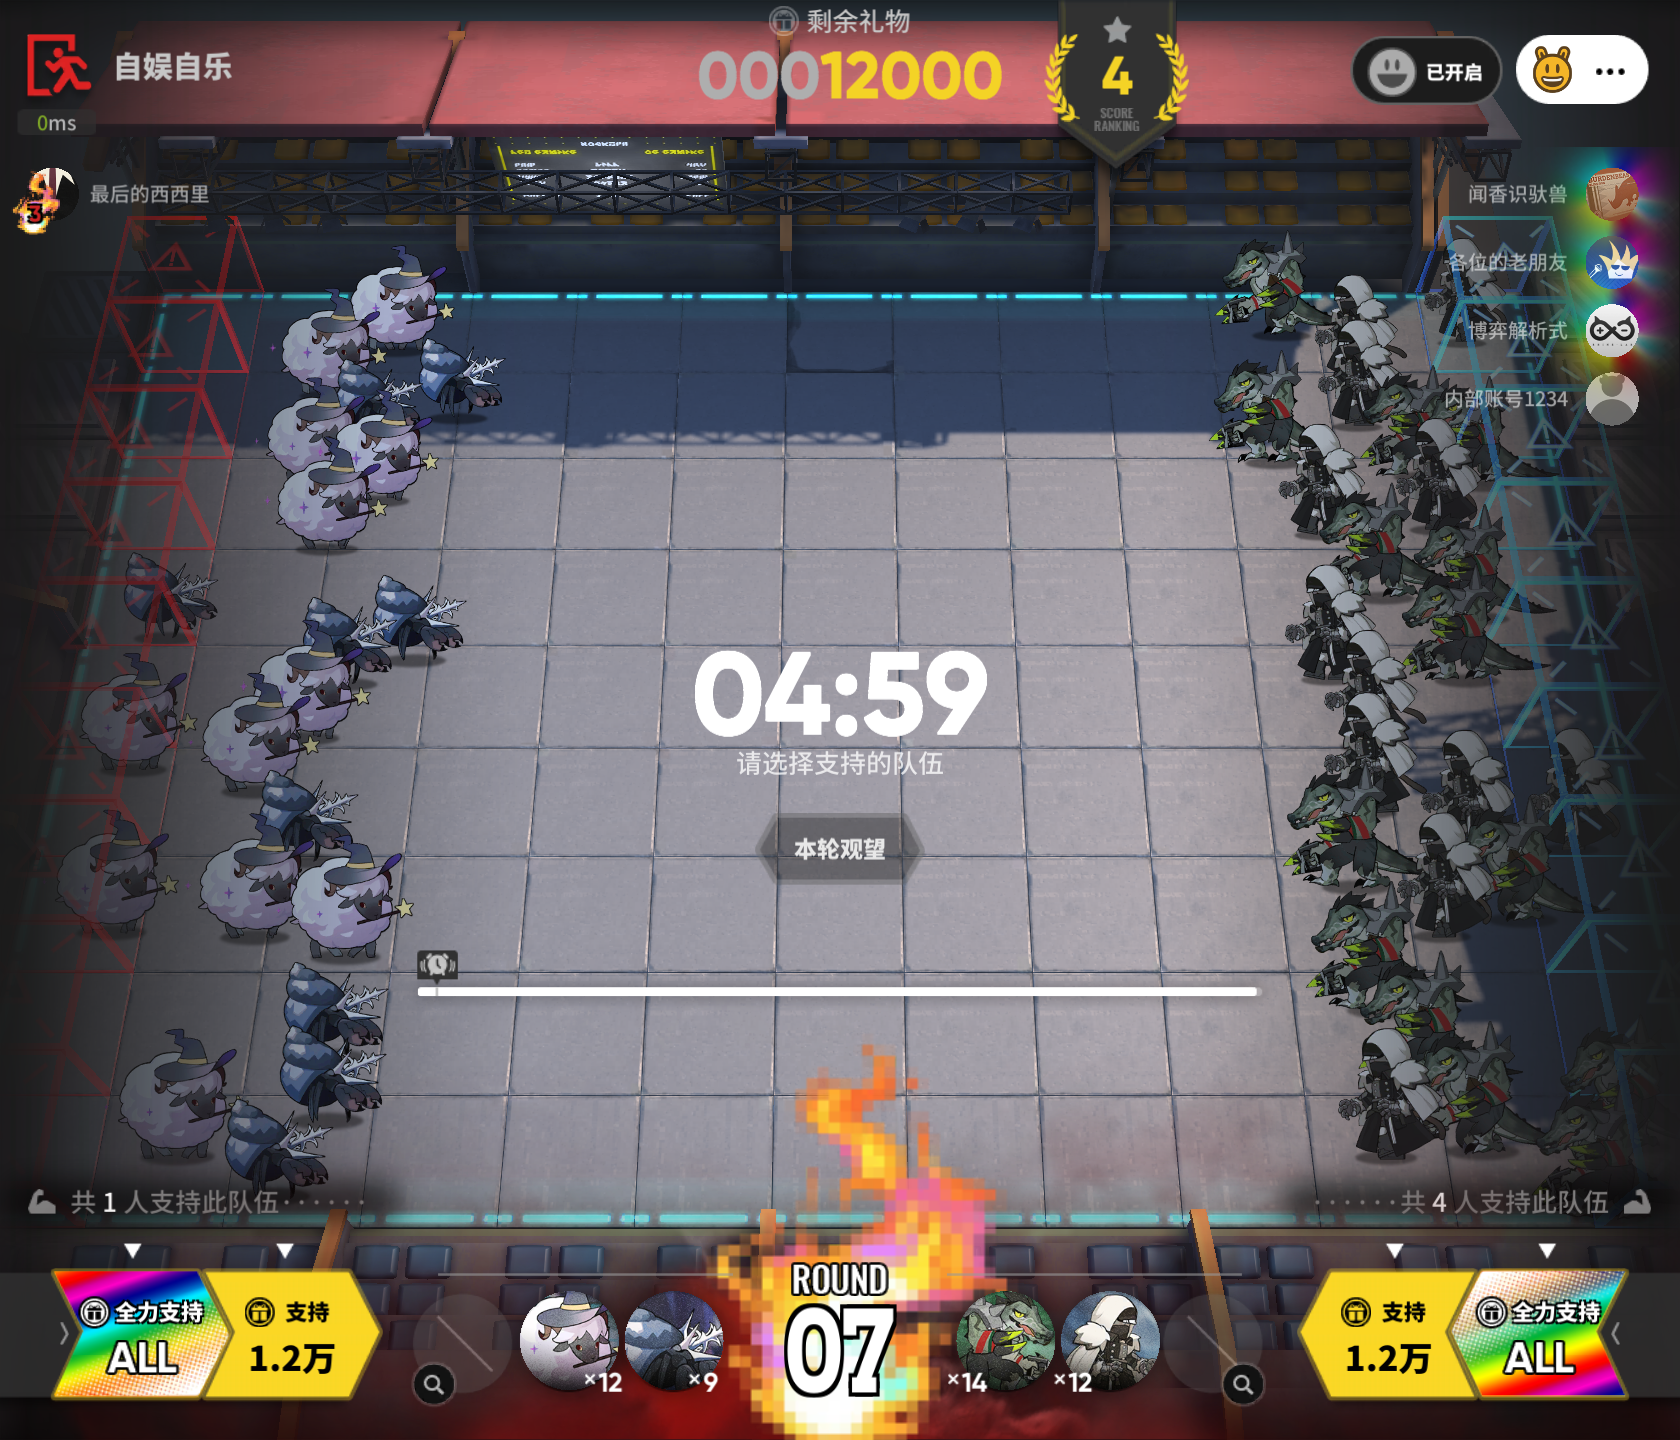冰手术师: (1411, 801, 1530, 957), (1340, 1010, 1446, 1184), (1416, 234, 1556, 344), (1286, 559, 1407, 673), (1056, 1274, 1166, 1399), (1289, 417, 1389, 551), (1539, 720, 1629, 849), (1333, 617, 1430, 727), (1323, 320, 1421, 424), (1329, 699, 1424, 801), (1429, 727, 1523, 826), (1324, 270, 1416, 366)
小寄居蟹: (274, 1014, 401, 1121), (630, 1277, 730, 1404), (219, 1091, 337, 1199), (251, 761, 364, 854), (367, 574, 466, 673), (119, 549, 221, 640), (281, 961, 384, 1050), (409, 329, 501, 426), (307, 599, 393, 687), (337, 359, 426, 433)
星星魔法师: (117, 1027, 239, 1160), (199, 817, 314, 951), (54, 809, 179, 931), (289, 841, 411, 959), (79, 651, 196, 771), (201, 677, 319, 791), (249, 629, 363, 740), (274, 453, 387, 549), (280, 290, 383, 394), (519, 1289, 621, 1393), (350, 246, 451, 351), (334, 406, 439, 499), (266, 394, 354, 474)
窃笑鳄鱼: (1263, 761, 1429, 899), (1303, 880, 1439, 1029), (1419, 501, 1561, 629), (1356, 354, 1479, 499), (1421, 387, 1563, 506), (1421, 1024, 1546, 1154), (1546, 1101, 1680, 1214), (1526, 1020, 1667, 1127), (1401, 581, 1534, 681), (1216, 231, 1336, 336), (1467, 819, 1584, 921), (1379, 969, 1489, 1077), (951, 1287, 1059, 1396), (1209, 350, 1304, 461), (1319, 490, 1416, 597)
